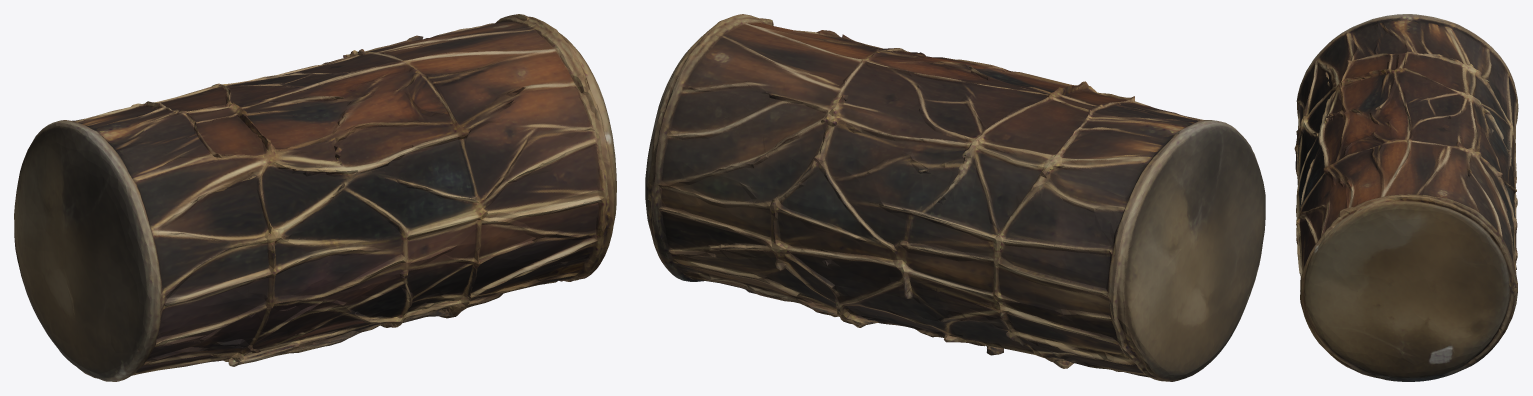
The model's file is kepulauan-riau.glb.
The picture shows the model from 3 angles, left to right: view 1: azimuth 30°, elevation 25°; view 2: azimuth 150°, elevation 25°; view 3: azimuth 270°, elevation 25°; orthographic projection. The views are drawn at different scales.
Parts seen in each view (by area): view 1: world; view 2: world; view 3: world.
Part boxes in pixels (x1,y1,x2,y2): world: (14, 14, 616, 381); world: (645, 14, 1265, 381); world: (1294, 14, 1518, 381).
Size of the model in its own units: 0.6729 by 0.3246 by 0.3378.
Materials: 1 (1 with a texture image).
